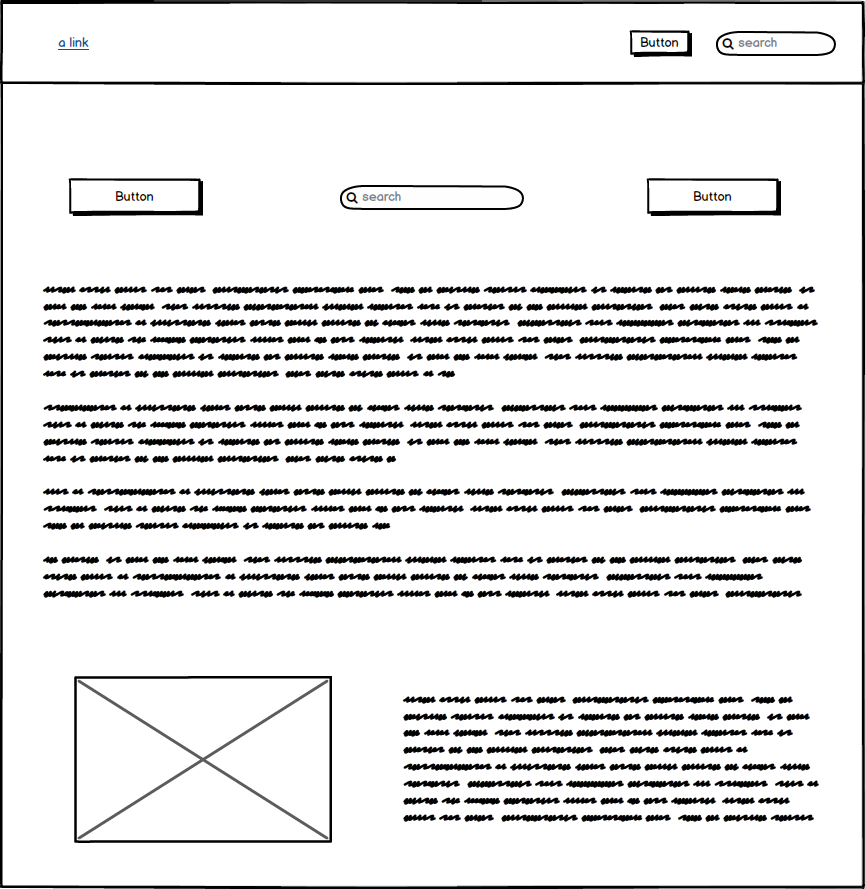button: (640, 171, 788, 225), (61, 173, 213, 225), (625, 24, 695, 63)
image: (56, 665, 348, 851)
navlink: (49, 27, 101, 55)
p: (30, 281, 821, 611), (395, 682, 828, 835)
search: (334, 178, 532, 219), (707, 24, 845, 63)
